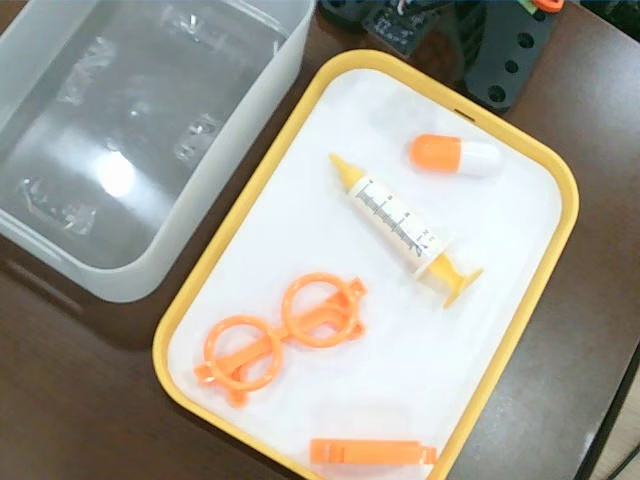pill: (408, 133, 503, 176)
syringe: (329, 152, 488, 312)
